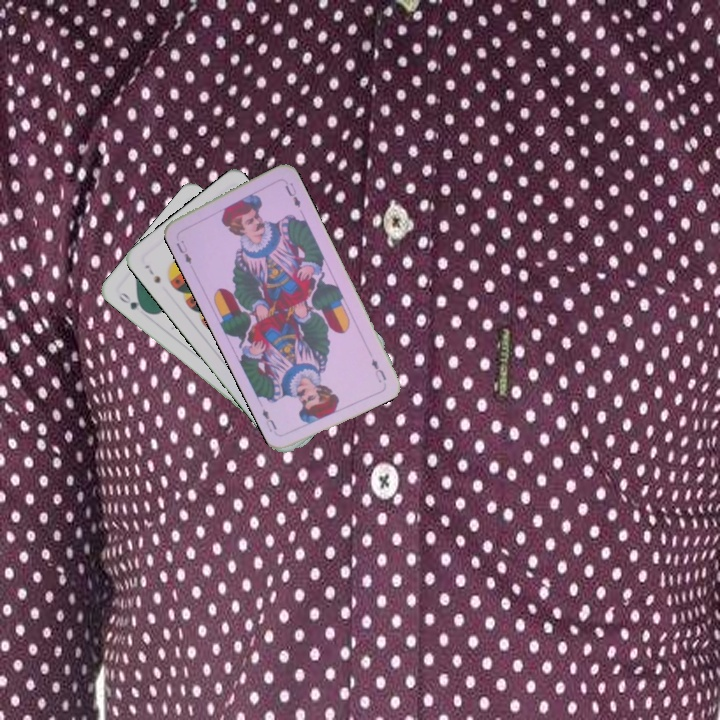EU: (172, 236, 194, 267), (367, 355, 389, 385)
GO: (115, 288, 150, 315)
S7: (140, 261, 163, 286)
